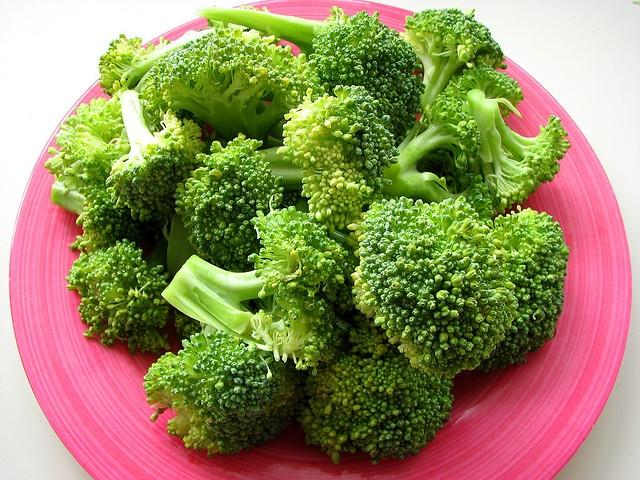broccoli: (161, 194, 350, 376), (346, 196, 520, 378), (296, 310, 455, 465), (138, 28, 330, 151), (143, 320, 307, 458), (258, 84, 400, 232), (173, 132, 284, 312), (312, 10, 427, 148), (476, 205, 571, 372), (381, 94, 493, 223), (64, 234, 174, 357), (466, 89, 572, 216), (105, 90, 206, 222), (400, 8, 508, 108), (162, 128, 228, 277), (51, 170, 158, 250), (98, 26, 216, 98), (44, 115, 130, 186), (439, 61, 524, 119), (333, 284, 356, 316)
